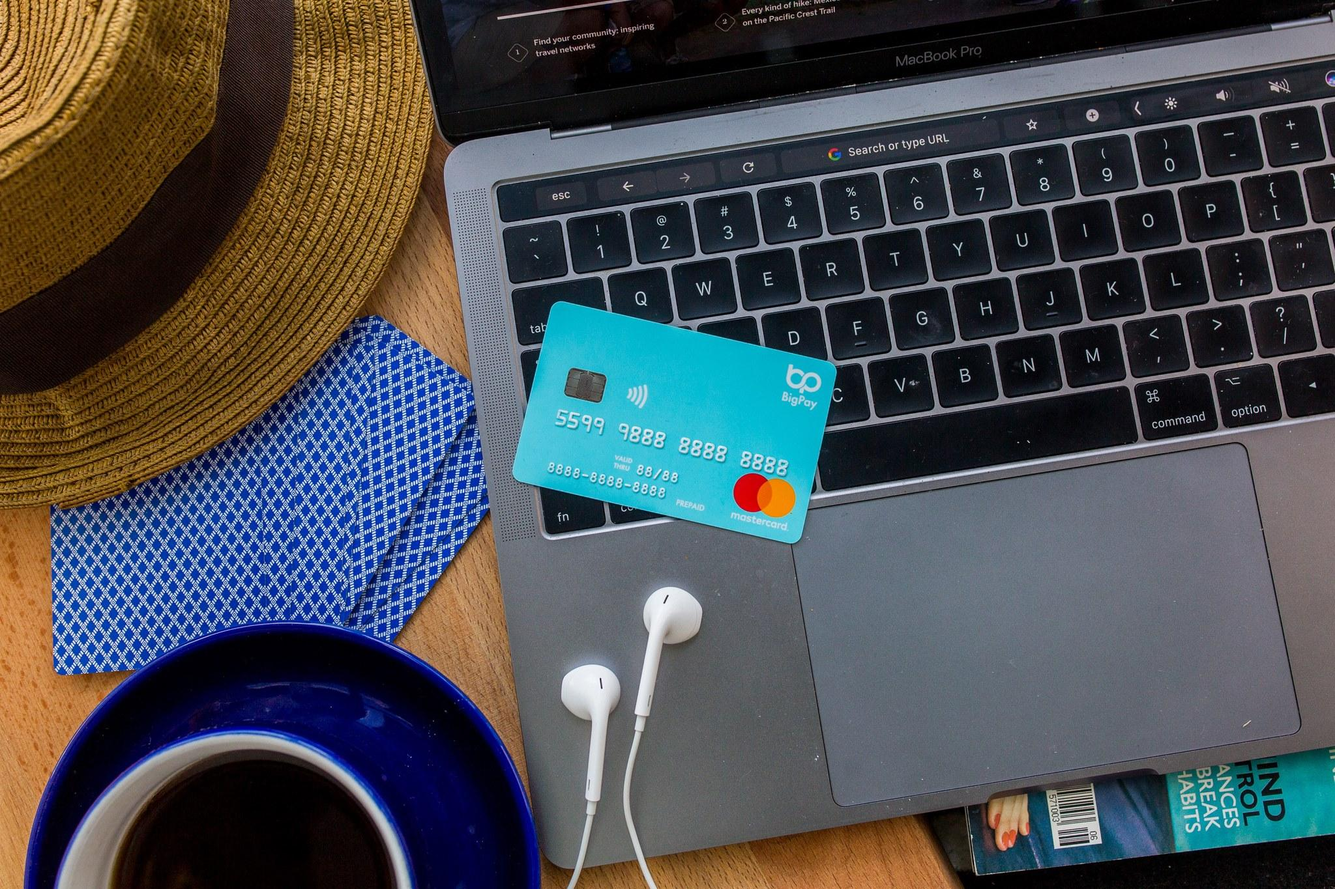Credit_card: (514, 303, 835, 543)
